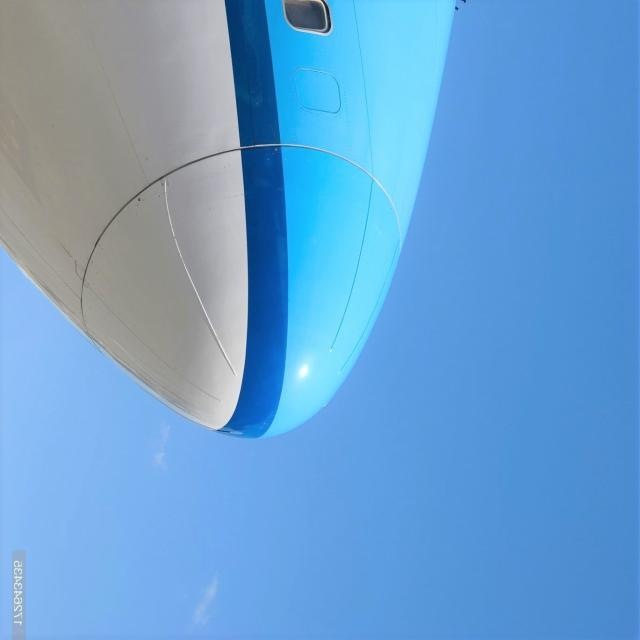crack: (68, 261, 90, 281)
